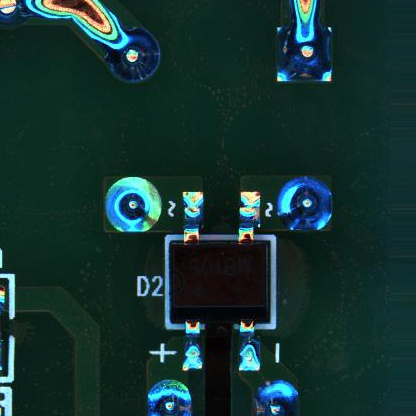spot: (274, 26, 332, 85), (105, 176, 163, 233), (275, 175, 334, 231), (106, 27, 160, 83)
